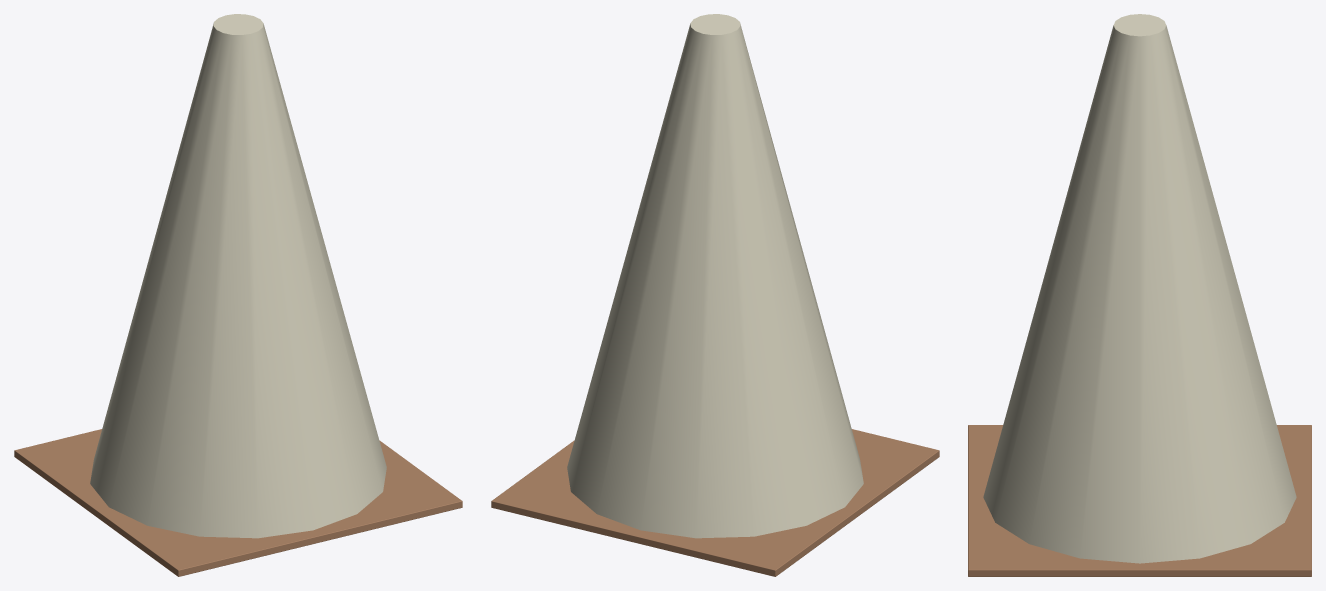
The model's file is survival-food-and-preservation-sugar-cone-ad4d829a__21770.glb.
The picture shows the model from 3 angles, left to right: view 1: azimuth 30°, elevation 25°; view 2: azimuth 150°, elevation 25°; view 3: azimuth 270°, elevation 25°; orthographic projection. The views are drawn at different scales.
Parts seen in each view (by area): view 1: sugar-cone; view 2: sugar-cone; view 3: sugar-cone.
Part boxes in pixels (left/top/right/bottom): sugar-cone: left=14, top=14, right=462, bottom=576; sugar-cone: left=491, top=14, right=939, bottom=576; sugar-cone: left=968, top=14, right=1311, bottom=576.
Size of the model in its own units: 0.13 by 0.2 by 0.13.
